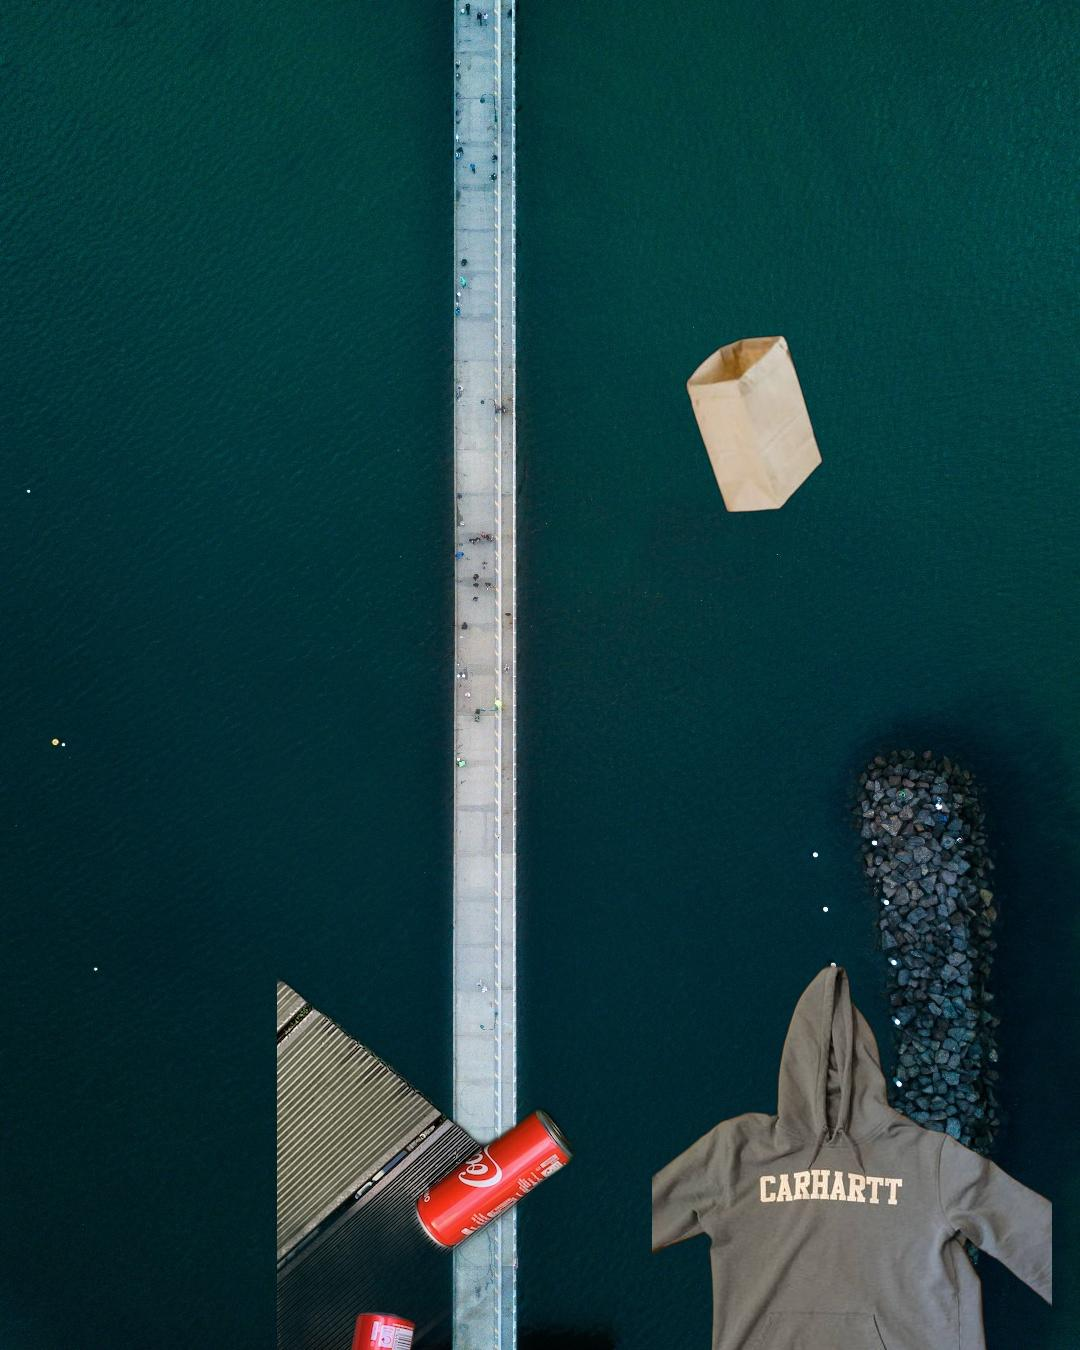clothes: (652, 961, 1052, 1350)
metal-cans: (277, 967, 789, 1350), (330, 1305, 420, 1350)
paper-bag: (684, 332, 825, 516)
plastic-bottles: (986, 1244, 1080, 1350)
